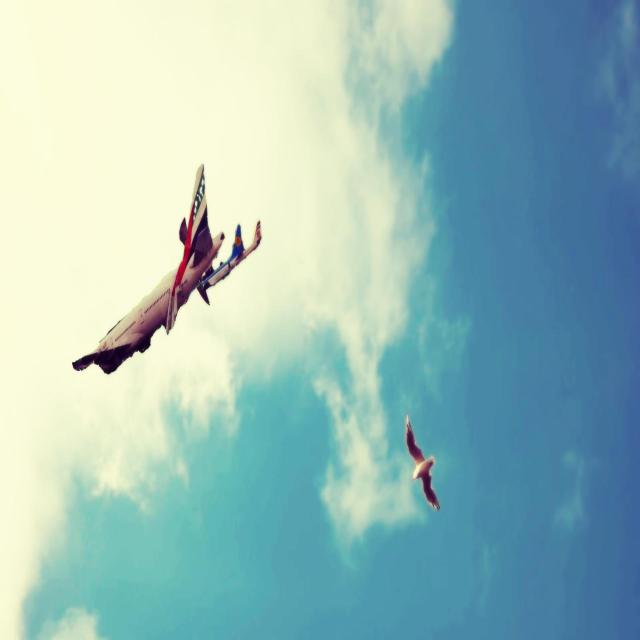airplane: (71, 162, 262, 374)
